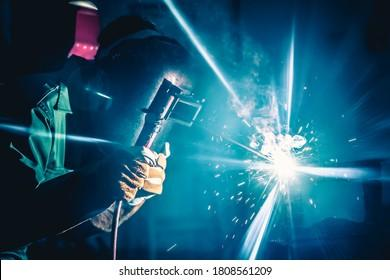gloves: (33, 156, 143, 225), (90, 161, 166, 232)
